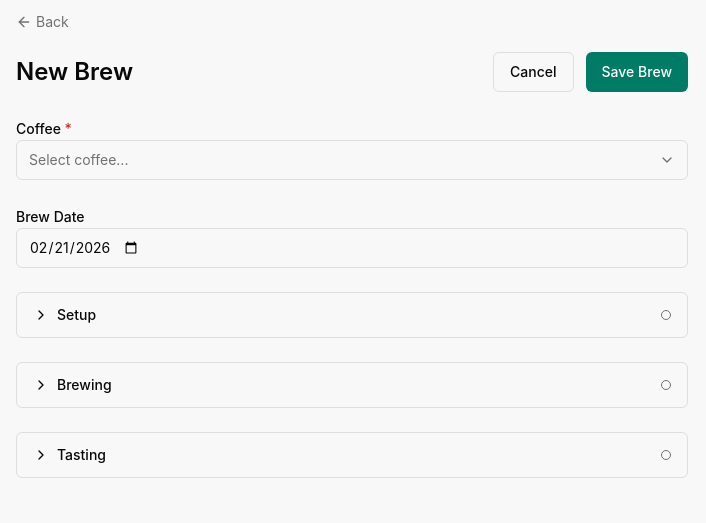
Scenario: BrewFormPage › shows validation error when saving without coffee
Expected: the heading "New Brew" is shown, [16, 56, 133, 88]
Click the button "Save Brew" at (637, 72), box [586, 52, 688, 92]
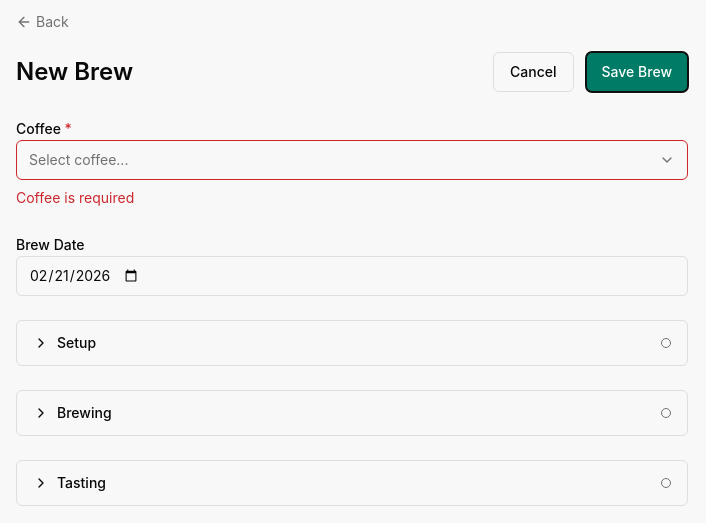
Result: the text "Coffee is required" is shown at [16, 189, 134, 206]
